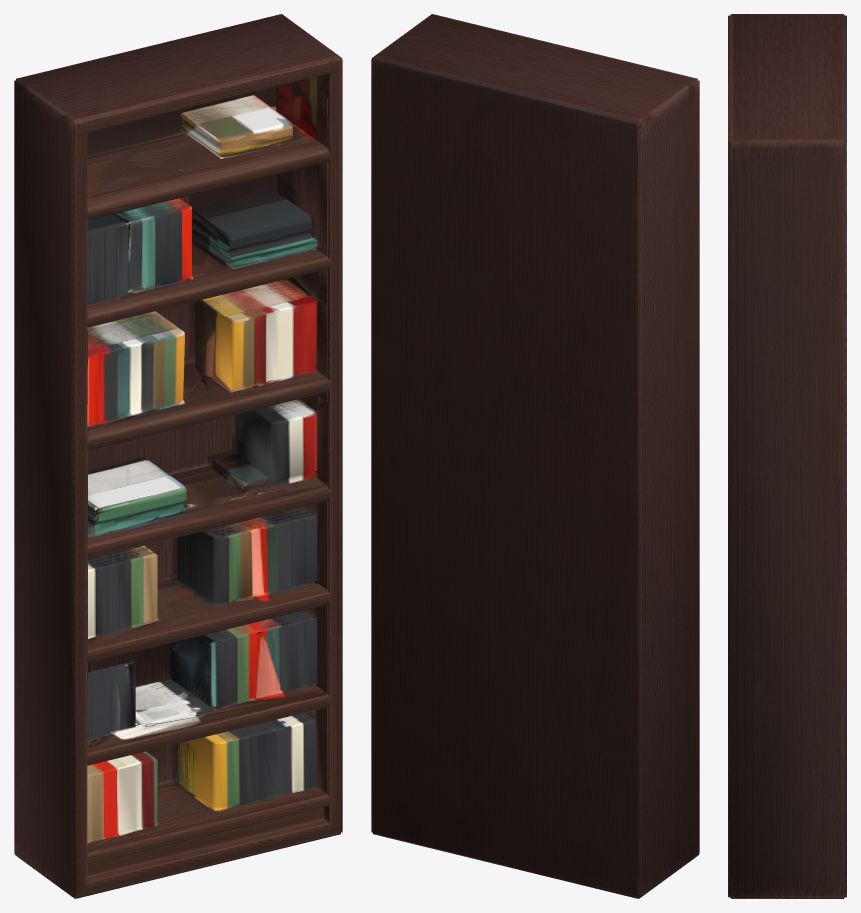
Rendered from Meshy_AI_A_stylized_low_poly_b_0430224524_texture.fbx.
3 renders of one model, left to right at view 1: azimuth 30°, elevation 25°; view 2: azimuth 150°, elevation 25°; view 3: azimuth 270°, elevation 25°, orthographic. The views are drawn at different scales.
Visible parts, largest first — view 1: Mesh_0; view 2: Mesh_0; view 3: Mesh_0.
Boxes of the visible parts, x1,y1,x2,y2 form: Mesh_0: [14, 14, 342, 898]; Mesh_0: [371, 14, 699, 898]; Mesh_0: [728, 14, 846, 898].
Size of the model in its own units: 69.28 by 191 by 27.01.
1 material, 1 textured.
